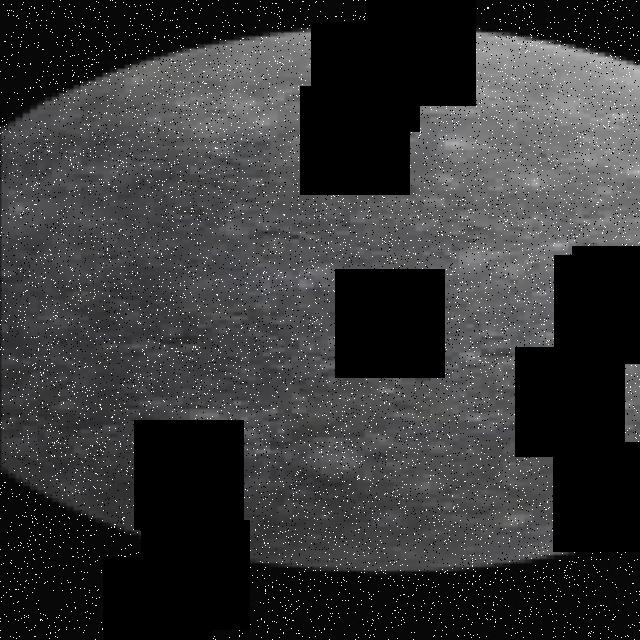Mercury: (0, 28, 640, 576)
